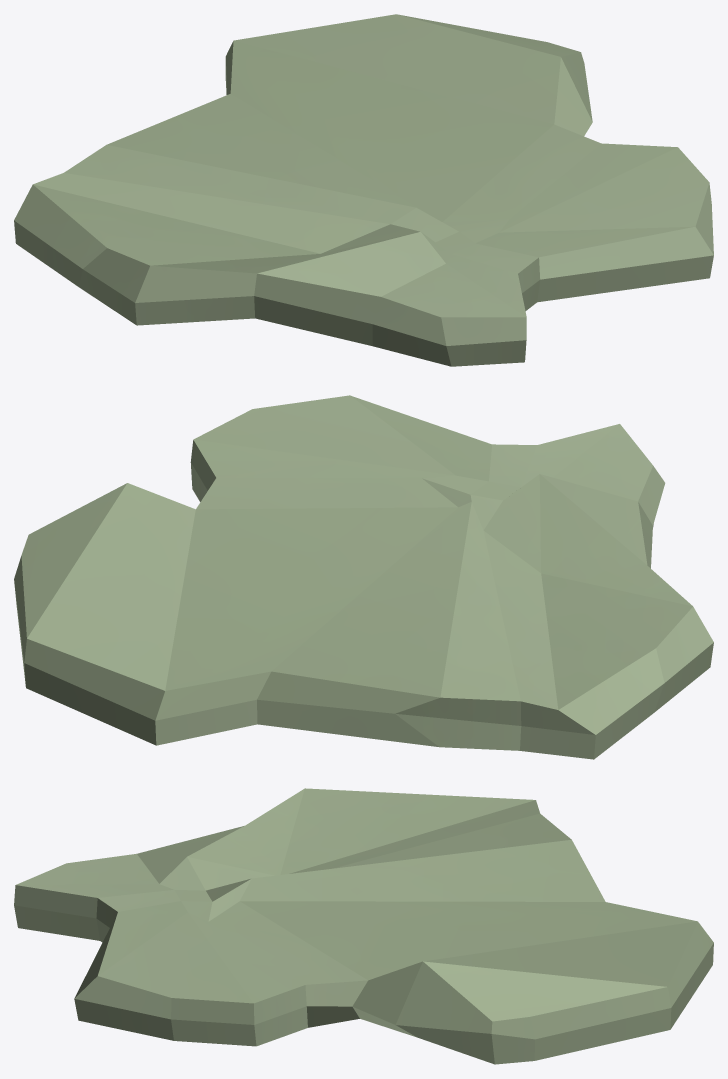
Rendered from grass_cluster_2.glb.
The picture shows the model from 3 angles, top to bottom: view 1: azimuth 30°, elevation 25°; view 2: azimuth 150°, elevation 25°; view 3: azimuth 270°, elevation 25°; orthographic projection. The views are drawn at different scales.
Visible parts, largest first — view 1: grass_cluster_2; view 2: grass_cluster_2; view 3: grass_cluster_2.
Part boxes in pixels (x1,y1,x2,y2): grass_cluster_2: (14, 14, 713, 366); grass_cluster_2: (14, 395, 713, 759); grass_cluster_2: (14, 788, 713, 1064).
Bounding box in the file's own units: 1.34 × 0.2416 × 1.56.
Materials: 1 (1 with a texture image).
